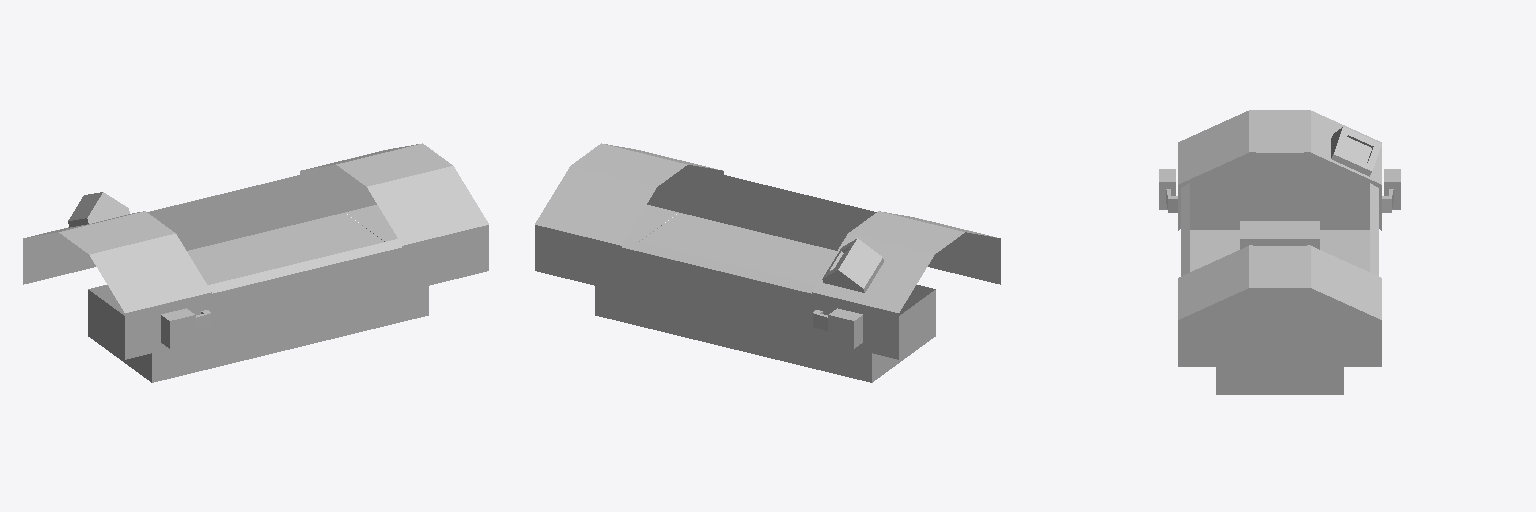
The model's file is cryobed-01-body.obj.
The picture shows the model from 3 angles: view 1: azimuth 30°, elevation 25°; view 2: azimuth 150°, elevation 25°; view 3: azimuth 270°, elevation 25°; orthographic projection.
Visible parts, largest first — view 1: cryo_chamber-08.001, cryo_chamber-08.004_cryo_chamber-08.007, cryo_chamber-08.006_cryo_chamber-08.008, Cube.002_Cube.003, cryo_chamber-08.008_cryo_chamber-08.011, cryo_chamber-08.009_cryo_chamber-08.013, cryo_chamber-08.003, cryo_chamber-08.002_cryo_chamber-08.005; view 2: cryo_chamber-08.001, cryo_chamber-08.006_cryo_chamber-08.008, cryo_chamber-08.004_cryo_chamber-08.007, Cube.002_Cube.003, cryo_chamber-08.003, cryo_chamber-08.008_cryo_chamber-08.011, cryo_chamber-08.009_cryo_chamber-08.013, cryo_chamber-08.002_cryo_chamber-08.005; view 3: cryo_chamber-08.006_cryo_chamber-08.008, cryo_chamber-08.001, cryo_chamber-08.004_cryo_chamber-08.007, cryo_chamber-08.007_cryo_chamber-08.009, Cube.002_Cube.003, Cube, cryo_chamber-08.003, cryo_chamber-08.008_cryo_chamber-08.011, cryo_chamber-08.002_cryo_chamber-08.005.
Part boxes in pixels (bbox=[...]): cryo_chamber-08.001: bbox=[147, 166, 401, 336]; cryo_chamber-08.004_cryo_chamber-08.007: bbox=[23, 211, 211, 359]; cryo_chamber-08.006_cryo_chamber-08.008: bbox=[300, 143, 488, 291]; Cube.002_Cube.003: bbox=[88, 225, 428, 382]; cryo_chamber-08.008_cryo_chamber-08.011: bbox=[208, 239, 401, 293]; cryo_chamber-08.009_cryo_chamber-08.013: bbox=[345, 172, 397, 241]; cryo_chamber-08.003: bbox=[68, 192, 129, 227]; cryo_chamber-08.002_cryo_chamber-08.005: bbox=[55, 230, 195, 348]; cryo_chamber-08.001: bbox=[622, 166, 876, 336]; cryo_chamber-08.006_cryo_chamber-08.008: bbox=[535, 143, 723, 291]; cryo_chamber-08.004_cryo_chamber-08.007: bbox=[812, 211, 1000, 359]; Cube.002_Cube.003: bbox=[595, 225, 935, 382]; cryo_chamber-08.003: bbox=[822, 238, 883, 292]; cryo_chamber-08.008_cryo_chamber-08.011: bbox=[622, 239, 815, 293]; cryo_chamber-08.009_cryo_chamber-08.013: bbox=[626, 172, 678, 241]; cryo_chamber-08.002_cryo_chamber-08.005: bbox=[828, 230, 968, 348]; cryo_chamber-08.006_cryo_chamber-08.008: bbox=[1178, 245, 1381, 366]; cryo_chamber-08.001: bbox=[1190, 182, 1369, 271]; cryo_chamber-08.004_cryo_chamber-08.007: bbox=[1178, 110, 1381, 184]; cryo_chamber-08.007_cryo_chamber-08.009: bbox=[1178, 152, 1381, 230]; Cube.002_Cube.003: bbox=[1216, 367, 1343, 394]; Cube: bbox=[1240, 221, 1319, 249]; cryo_chamber-08.003: bbox=[1331, 127, 1381, 176]; cryo_chamber-08.008_cryo_chamber-08.011: bbox=[1181, 183, 1378, 275]; cryo_chamber-08.002_cryo_chamber-08.005: bbox=[1159, 169, 1400, 209].
Size of the model in its own units: 4.93 by 1.82 by 2.85.